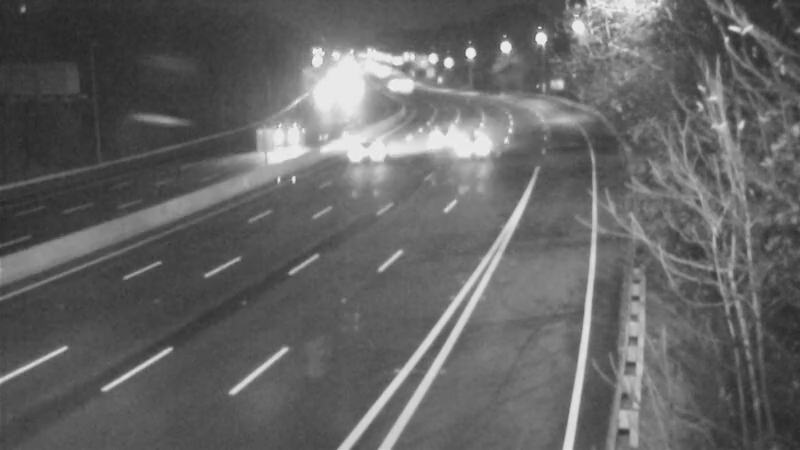vehicle: (442, 119, 492, 169), (409, 105, 459, 155), (349, 111, 399, 161), (256, 111, 306, 161)
